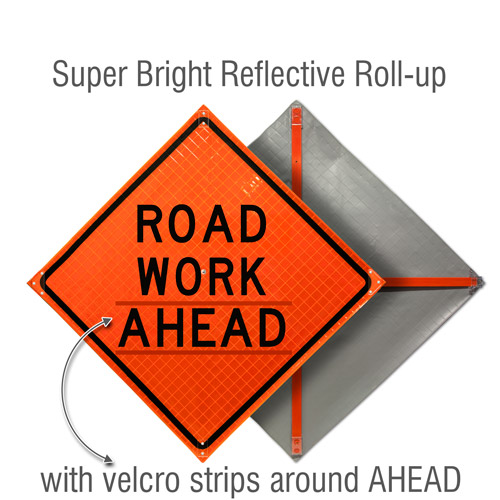Road_workahead: (28, 105, 389, 465)
